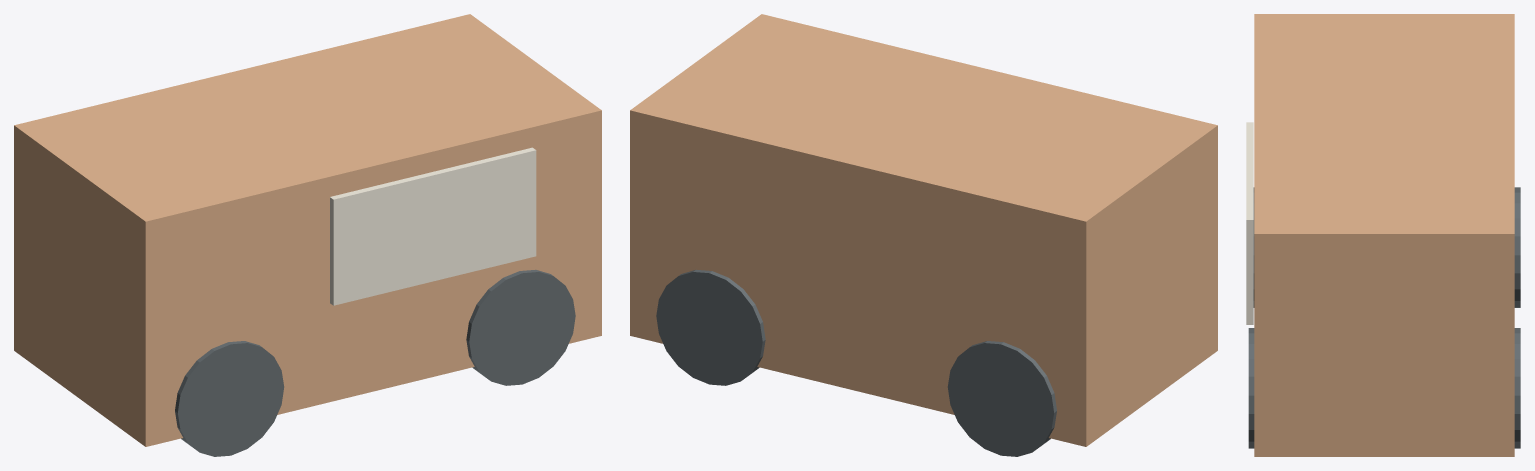
File: food_truck.glb
The picture shows the model from 3 angles, left to right: view 1: azimuth 30°, elevation 25°; view 2: azimuth 150°, elevation 25°; view 3: azimuth 270°, elevation 25°; orthographic projection.
Visible parts, largest first — view 1: part_00, part_01, part_05, part_03; view 2: part_00, part_04, part_02; view 3: part_00, part_01, part_02, part_04, part_05.
Boxes of the visible parts, x1,y1,x2,y2 form: part_00: (14,14,601,446); part_01: (330,147,536,305); part_05: (466,269,575,385); part_03: (175,341,284,456); part_00: (630,14,1217,446); part_04: (656,269,765,385); part_02: (947,341,1056,456); part_00: (1254,14,1514,456); part_01: (1246,122,1253,324); part_02: (1514,187,1520,307); part_04: (1514,328,1520,448); part_05: (1248,328,1254,448).
Size of the model in its own units: 3.6 by 1.9 by 1.89.
